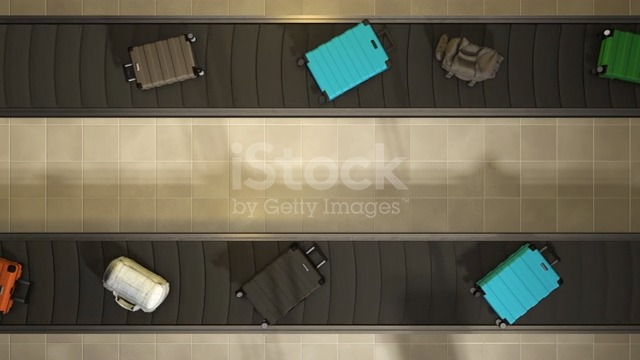Bag: (297, 16, 400, 110), (466, 241, 572, 330), (234, 243, 341, 328), (115, 28, 210, 96), (432, 30, 515, 91), (98, 253, 170, 322), (0, 257, 41, 328), (595, 26, 640, 85)
Handle: (8, 277, 40, 310), (303, 243, 332, 274), (375, 24, 400, 54), (539, 244, 563, 270), (118, 60, 140, 88)
Straps: (115, 296, 139, 311)
